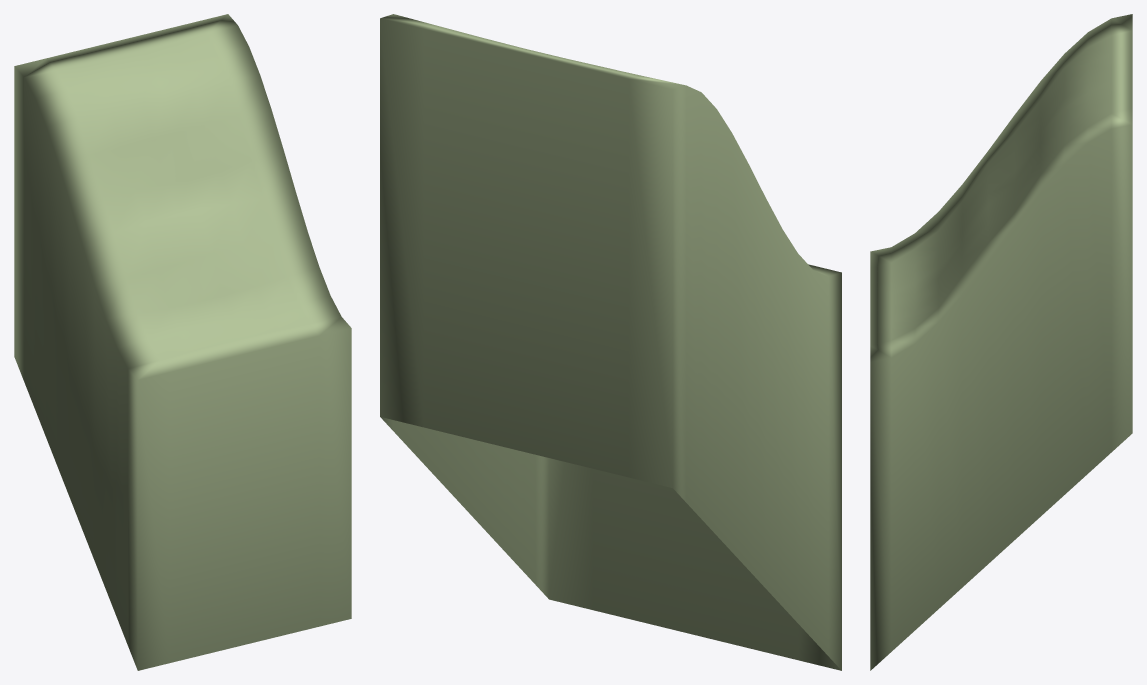
Rendered from ground-ramp-02.glb.
The picture shows the model from 3 angles, left to right: view 1: azimuth 30°, elevation 25°; view 2: azimuth 150°, elevation 25°; view 3: azimuth 270°, elevation 25°; orthographic projection. The views are drawn at different scales.
Parts seen in each view (by area): view 1: ground-ramp-02; view 2: ground-ramp-02; view 3: ground-ramp-02.
Boxes of the visible parts, x1=… form: ground-ramp-02: x1=14, y1=14, x2=351, y2=670; ground-ramp-02: x1=380, y1=14, x2=841, y2=670; ground-ramp-02: x1=870, y1=14, x2=1132, y2=670.
Bounding box in the file's own units: 1 × 2.3 × 1.
